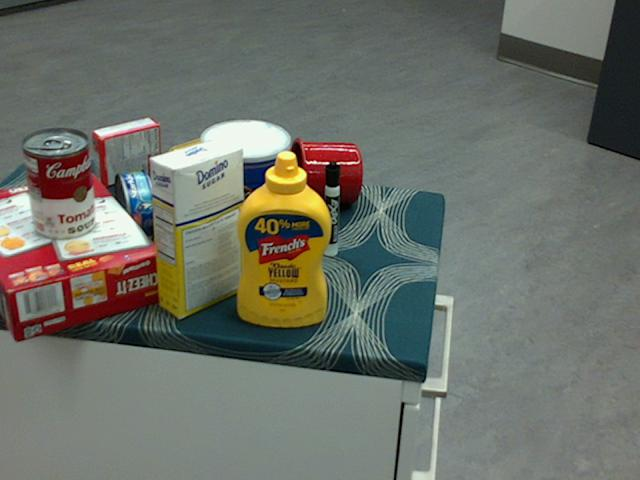cracker_box: (0, 170, 165, 341)
gelatin_box: (91, 117, 160, 186)
large_marker: (324, 161, 340, 255)
master_chef_can: (198, 118, 288, 263)
mug: (286, 136, 361, 208)
mustard_bottle: (236, 150, 332, 326)
potted_meat_can: (167, 130, 247, 219)
sugar_box: (148, 138, 244, 317)
tomato_soup_can: (21, 128, 95, 240)
tuna_fish_can: (112, 171, 154, 244)
